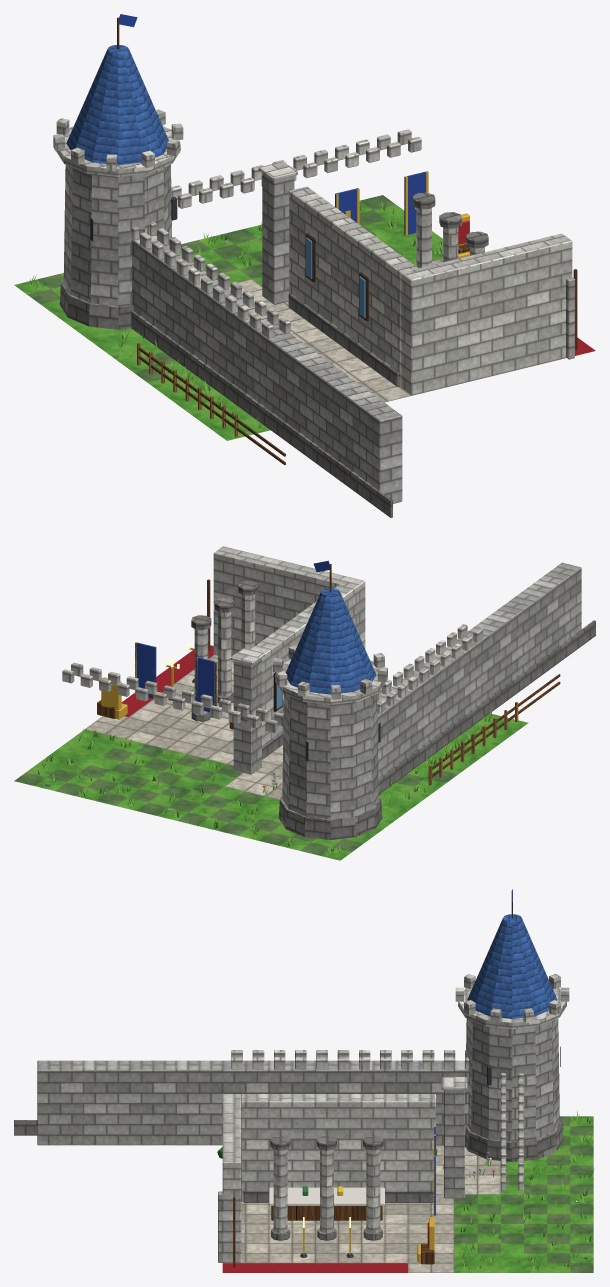
Rendered from chunk_5_3.glb.
3 views of the same model, one above another, from view 1: azimuth 30°, elevation 25°; view 2: azimuth 150°, elevation 25°; view 3: azimuth 270°, elevation 25° (orthographic). The views are drawn at different scales.
Visible parts, largest first — view 1: chunk_5_3; view 2: chunk_5_3; view 3: chunk_5_3.
Part boxes in pixels (x1,y1,x2,y2): chunk_5_3: (14, 14, 595, 517); chunk_5_3: (14, 546, 595, 860); chunk_5_3: (14, 889, 593, 1272).
Size of the model in its own units: 16 by 12.17 by 25.11.
28 materials, 14 textured.
